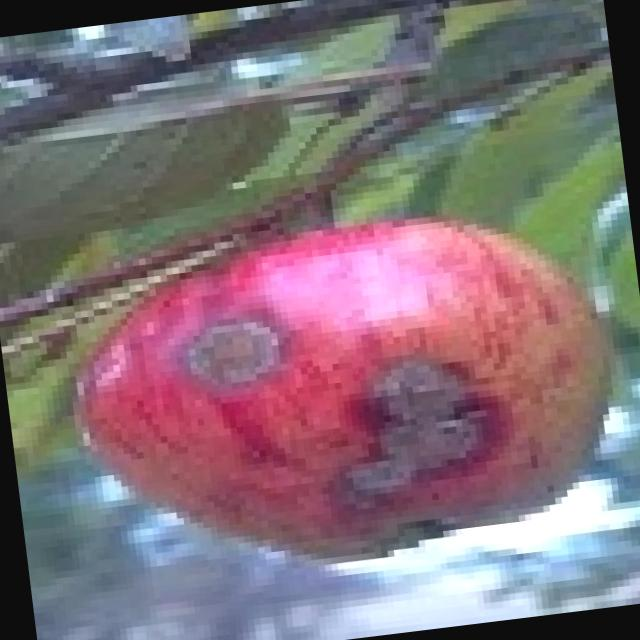Apple: (54, 189, 635, 586)
